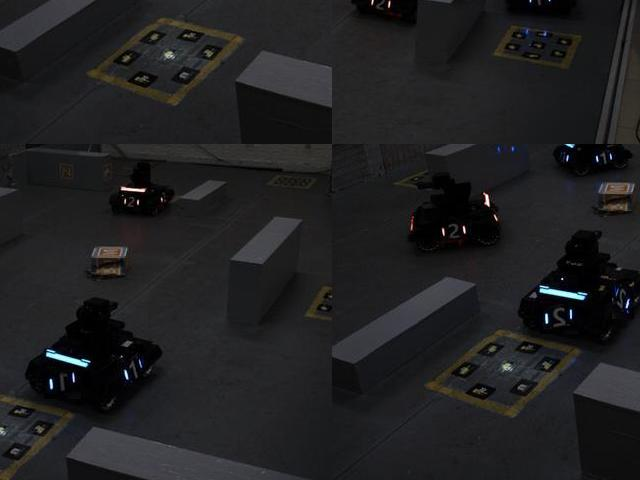armor: (540, 301, 579, 335), (44, 368, 82, 401), (119, 354, 147, 388), (613, 282, 636, 321), (434, 219, 469, 244), (592, 148, 615, 168), (120, 193, 143, 212), (366, 0, 395, 15), (556, 146, 573, 169), (526, 0, 556, 10)
